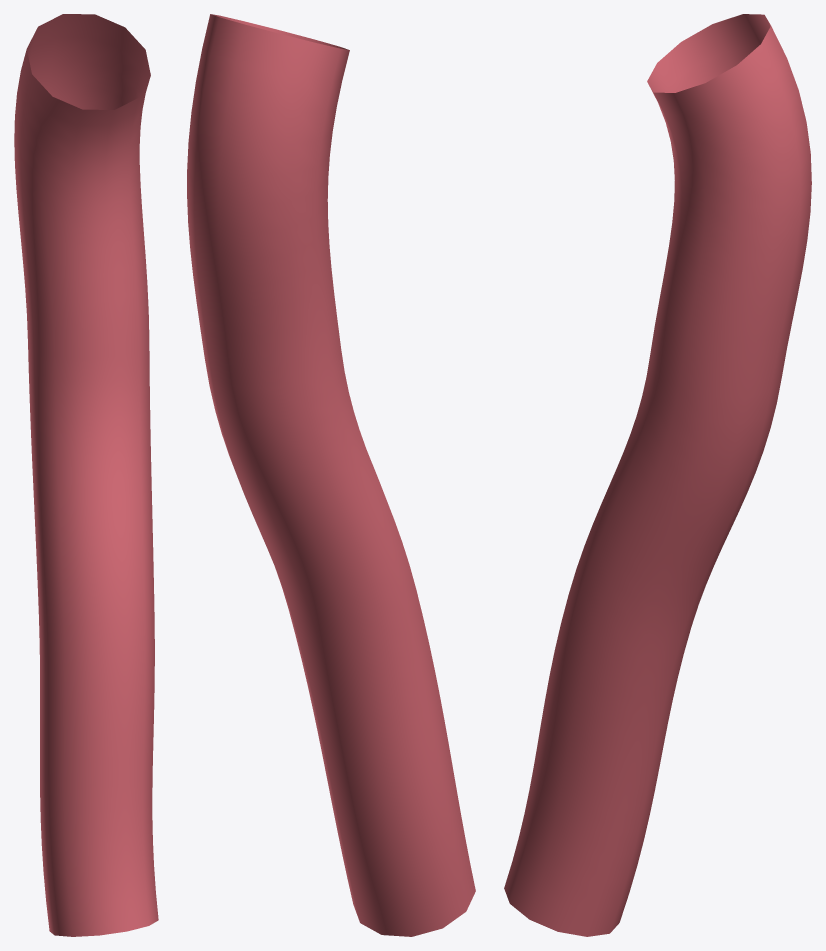
The picture shows the model from 3 angles, left to right: view 1: azimuth 30°, elevation 25°; view 2: azimuth 150°, elevation 25°; view 3: azimuth 270°, elevation 25°; orthographic projection. The views are drawn at different scales.
Parts seen in each view (by area): view 1: ZA_397d5aec545ed32a; view 2: ZA_397d5aec545ed32a; view 3: ZA_397d5aec545ed32a.
Part boxes in pixels (x1,y1,x2,y2): ZA_397d5aec545ed32a: (14, 14, 158, 936); ZA_397d5aec545ed32a: (187, 14, 475, 936); ZA_397d5aec545ed32a: (504, 14, 811, 936).
Size of the model in its own units: 0.0316 by 0.1604 by 0.0484.
